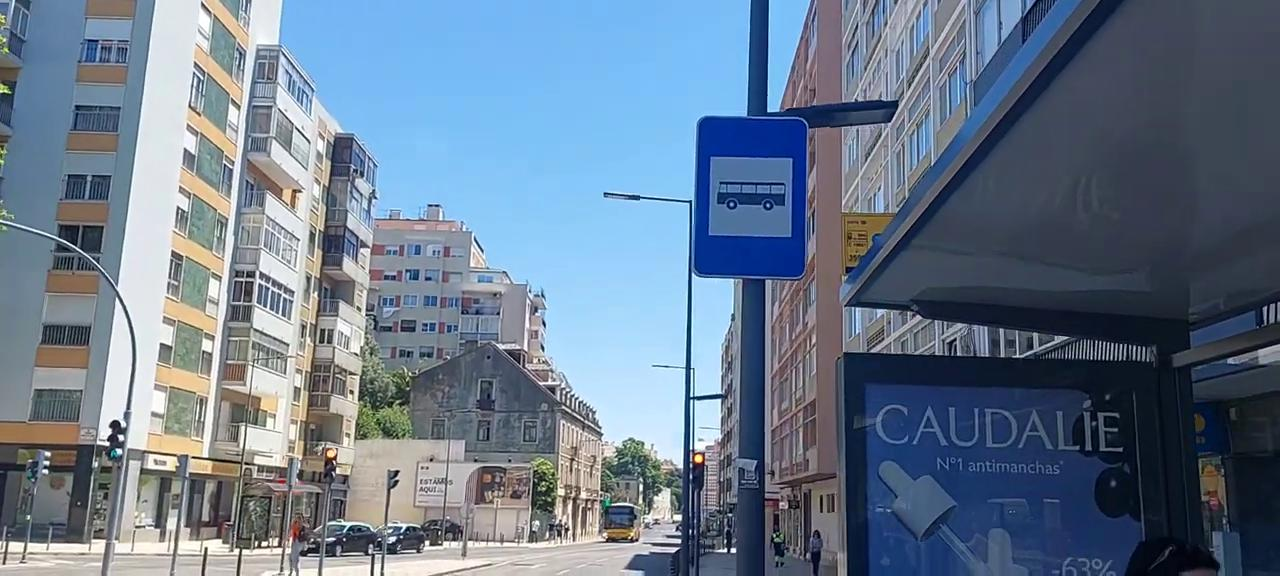paragem de veiculos de transporte colectivo de passageiros: (689, 115, 810, 282)
